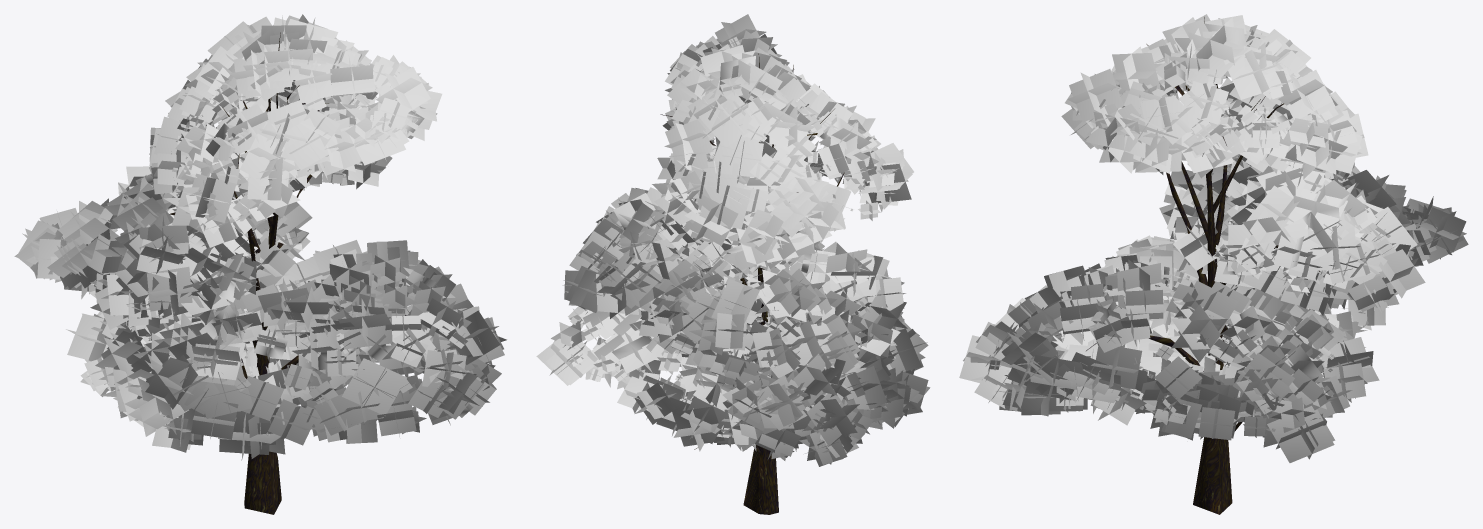
File: Tree1.fbx
3 views of the same model, side by side, from view 1: azimuth 30°, elevation 25°; view 2: azimuth 150°, elevation 25°; view 3: azimuth 270°, elevation 25° (orthographic). The views are drawn at different scales.
Parts seen in each view (by area): view 1: Leaves, Trunk; view 2: Leaves, Trunk; view 3: Leaves, Trunk.
Part boxes in pixels (bbox=[...]): Leaves: bbox=[14, 14, 506, 460]; Trunk: bbox=[169, 32, 407, 514]; Leaves: bbox=[536, 14, 930, 466]; Trunk: bbox=[660, 53, 844, 514]; Leaves: bbox=[959, 14, 1468, 462]; Trunk: bbox=[1086, 17, 1320, 514].
Bounding box in the file's own units: 3.99 × 4.84 × 5.2.
